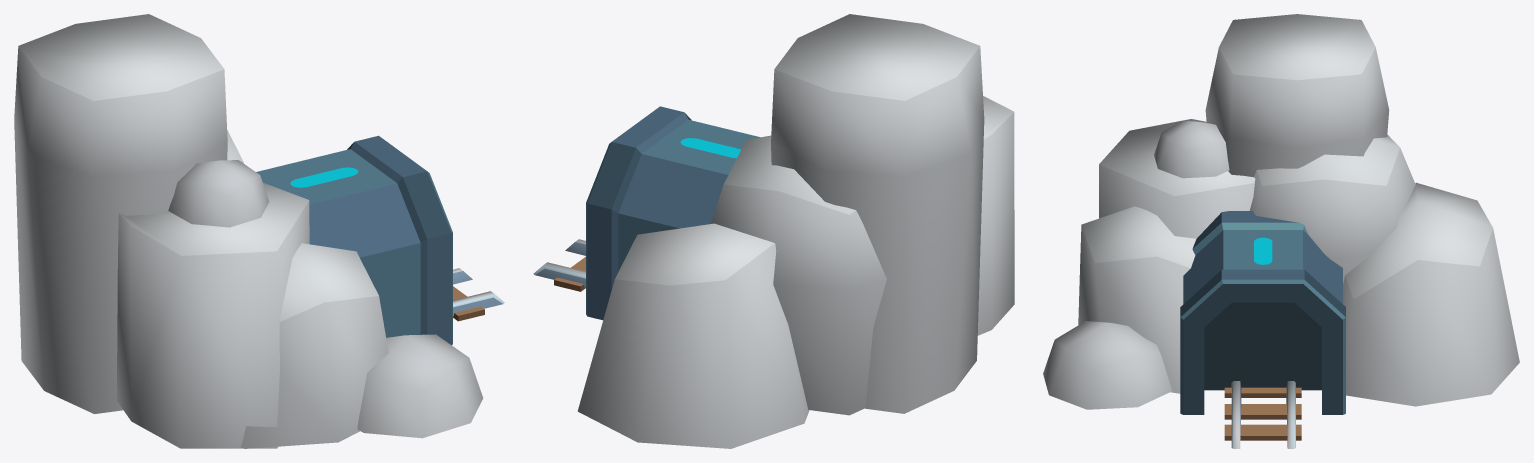
Rendered from Buildings_7.fbx.
3 renders of one model, left to right at view 1: azimuth 30°, elevation 25°; view 2: azimuth 150°, elevation 25°; view 3: azimuth 270°, elevation 25°, orthographic. The views are drawn at different scales.
Parts seen in each view (by area): view 1: Buildings.006; view 2: Buildings.006; view 3: Buildings.006.
Part boxes in pixels (x1=…): Buildings.006: x1=14, y1=14, x2=504, y2=448; Buildings.006: x1=533, y1=14, x2=1014, y2=448; Buildings.006: x1=1043, y1=14, x2=1519, y2=448.
Size of the model in its own units: 553 by 609 by 380.
